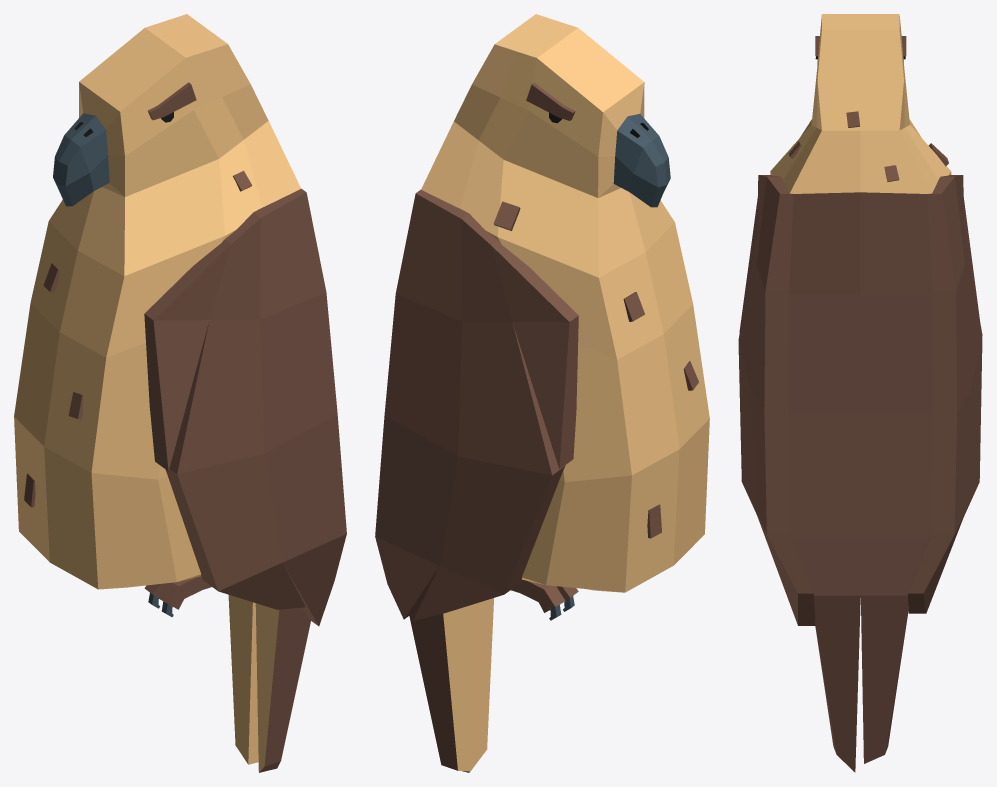
File: 0qIgSrL5qEn.glb
3 views of the same model, side by side, from view 1: azimuth 30°, elevation 25°; view 2: azimuth 150°, elevation 25°; view 3: azimuth 270°, elevation 25° (orthographic). The views are drawn at different scales.
Parts seen in each view (by area): view 1: Cube.033; view 2: Cube.033; view 3: Cube.033.
Part boxes in pixels (left/top/right/bottom): Cube.033: left=14, top=14, right=346, bottom=772; Cube.033: left=375, top=14, right=709, bottom=772; Cube.033: left=738, top=14, right=982, bottom=772.
Bounding box in the file's own units: 99.04 × 277 × 86.08.
